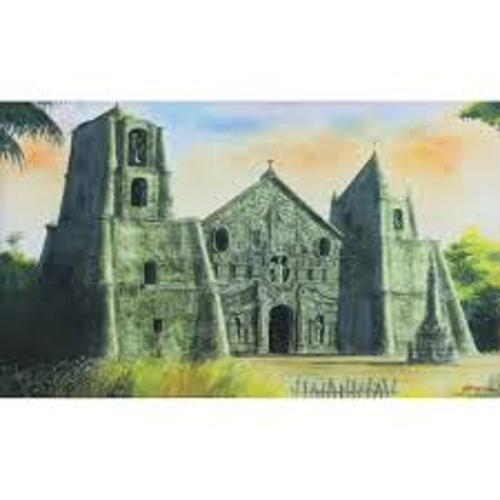Miagao Church: (39, 104, 469, 372)
